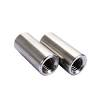Thread: (69, 53, 89, 76), (41, 54, 58, 75)
